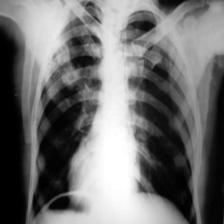tuberculosis: (25, 0, 204, 224)
